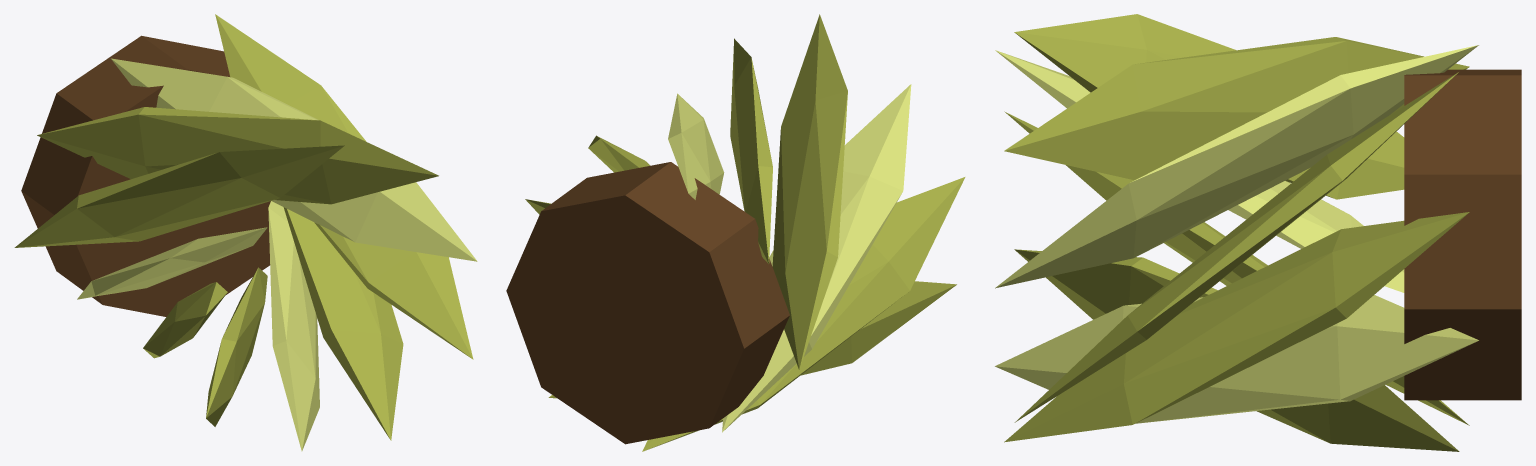
File: 3_growing.obj
3 views of the same model, side by side, from view 1: azimuth 30°, elevation 25°; view 2: azimuth 150°, elevation 25°; view 3: azimuth 270°, elevation 25° (orthographic). The views are drawn at different scales.
Visible parts, largest first — view 1: lantadyme_3_growing; view 2: lantadyme_3_growing; view 3: lantadyme_3_growing.
Boxes of the visible parts, x1,y1,x2,y2 form: lantadyme_3_growing: [14, 14, 477, 451]; lantadyme_3_growing: [506, 14, 965, 451]; lantadyme_3_growing: [995, 14, 1521, 451].
Bounding box in the file's own units: 0.1511 × 0.1483 × 0.1797.
